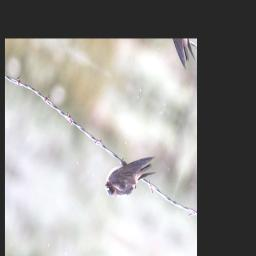Swallow: (101, 135, 161, 217)
